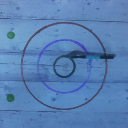Axe Tip: (69, 54, 80, 57)
